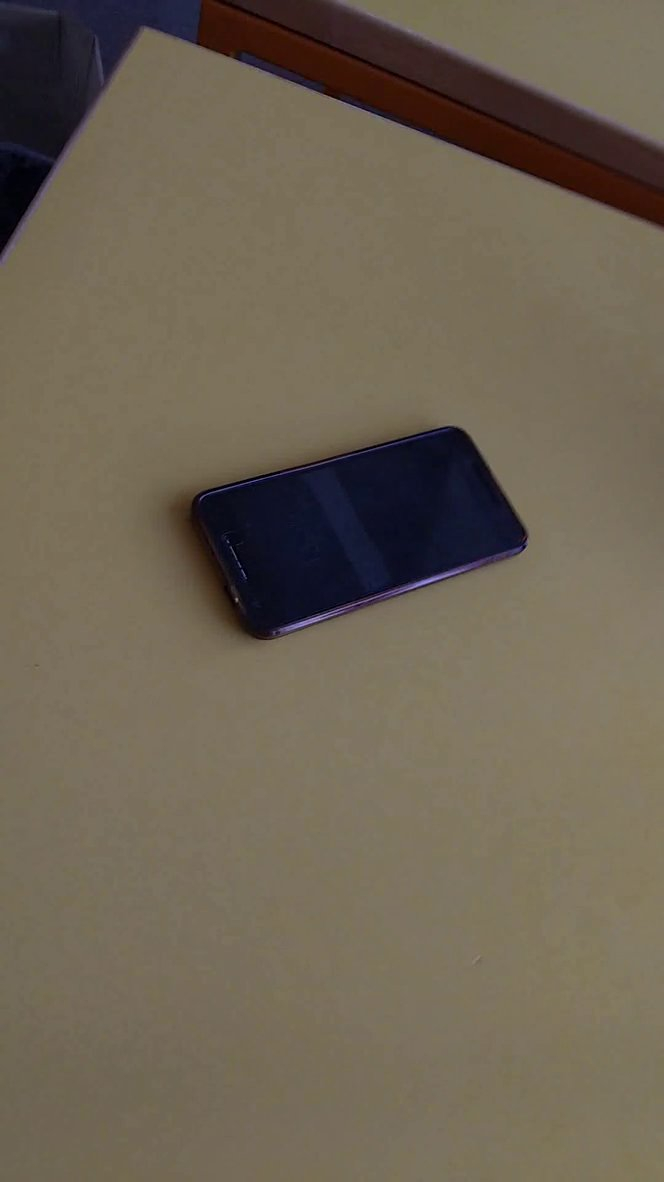phone: (175, 417, 543, 648)
